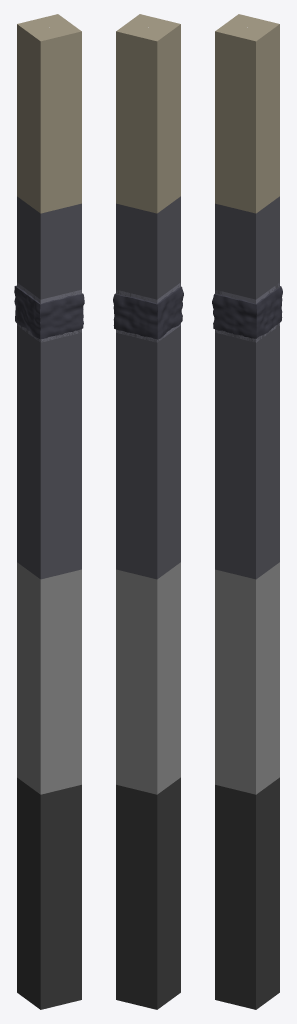
The model's file is Environment_EXPORT.fbx.
3 views of the same model, side by side, from view 1: azimuth 30°, elevation 25°; view 2: azimuth 150°, elevation 25°; view 3: azimuth 330°, elevation 25° (orthographic).
Visible parts, largest first — view 1: GEO_Ecca_Shale, GEO_Basement, GEO_Dwyka, GEO_Beaufort, GEO_Dolerite_Sill_Procedural, GEO_Dolerite_Sill; view 2: GEO_Ecca_Shale, GEO_Dwyka, GEO_Basement, GEO_Beaufort, GEO_Dolerite_Sill_Procedural, GEO_Dolerite_Sill; view 3: GEO_Ecca_Shale, GEO_Basement, GEO_Dwyka, GEO_Beaufort, GEO_Dolerite_Sill_Procedural, GEO_Dolerite_Sill.
Boxes of the visible parts, x1,y1,x2,y2 form: GEO_Ecca_Shale: (17, 196, 81, 579); GEO_Basement: (17, 777, 81, 1009); GEO_Dwyka: (17, 562, 81, 794); GEO_Beaufort: (17, 14, 81, 213); GEO_Dolerite_Sill_Procedural: (14, 285, 84, 339); GEO_Dolerite_Sill: (17, 282, 81, 342); GEO_Ecca_Shale: (116, 196, 180, 579); GEO_Dwyka: (116, 562, 180, 794); GEO_Basement: (116, 777, 180, 1009); GEO_Beaufort: (116, 14, 180, 213); GEO_Dolerite_Sill_Procedural: (113, 286, 183, 339); GEO_Dolerite_Sill: (116, 283, 180, 342); GEO_Ecca_Shale: (215, 196, 279, 579); GEO_Basement: (215, 777, 279, 1009); GEO_Dwyka: (215, 562, 279, 794); GEO_Beaufort: (215, 14, 279, 213); GEO_Dolerite_Sill_Procedural: (212, 286, 282, 338); GEO_Dolerite_Sill: (215, 283, 279, 342).
Bounding box in the file's own units: 22924 × 450005 × 22790.
